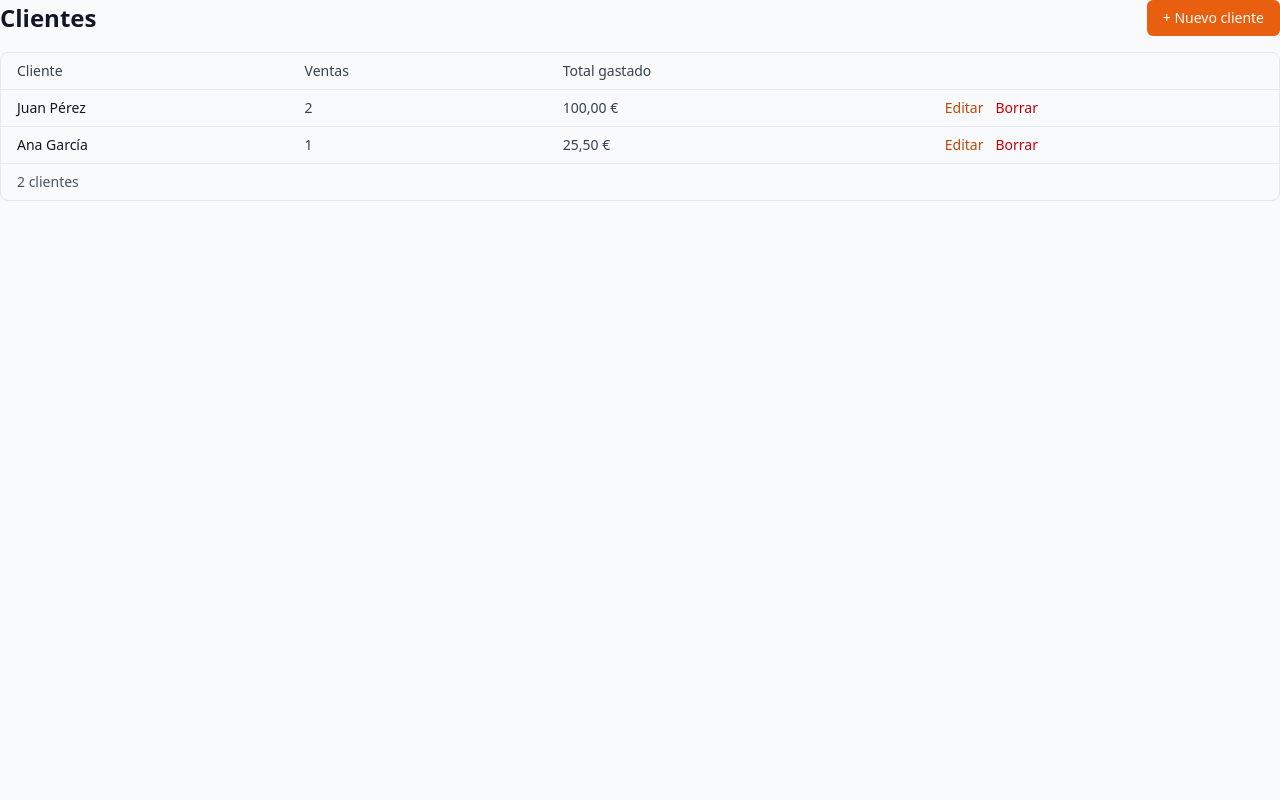
it: CustomersListPage › un cliente sin ventas se borra con el DELETE simple
Click the button with aria-label "Borrar Juan Pérez" at (1017, 108), box x1=996 y1=98 x2=1038 y2=118
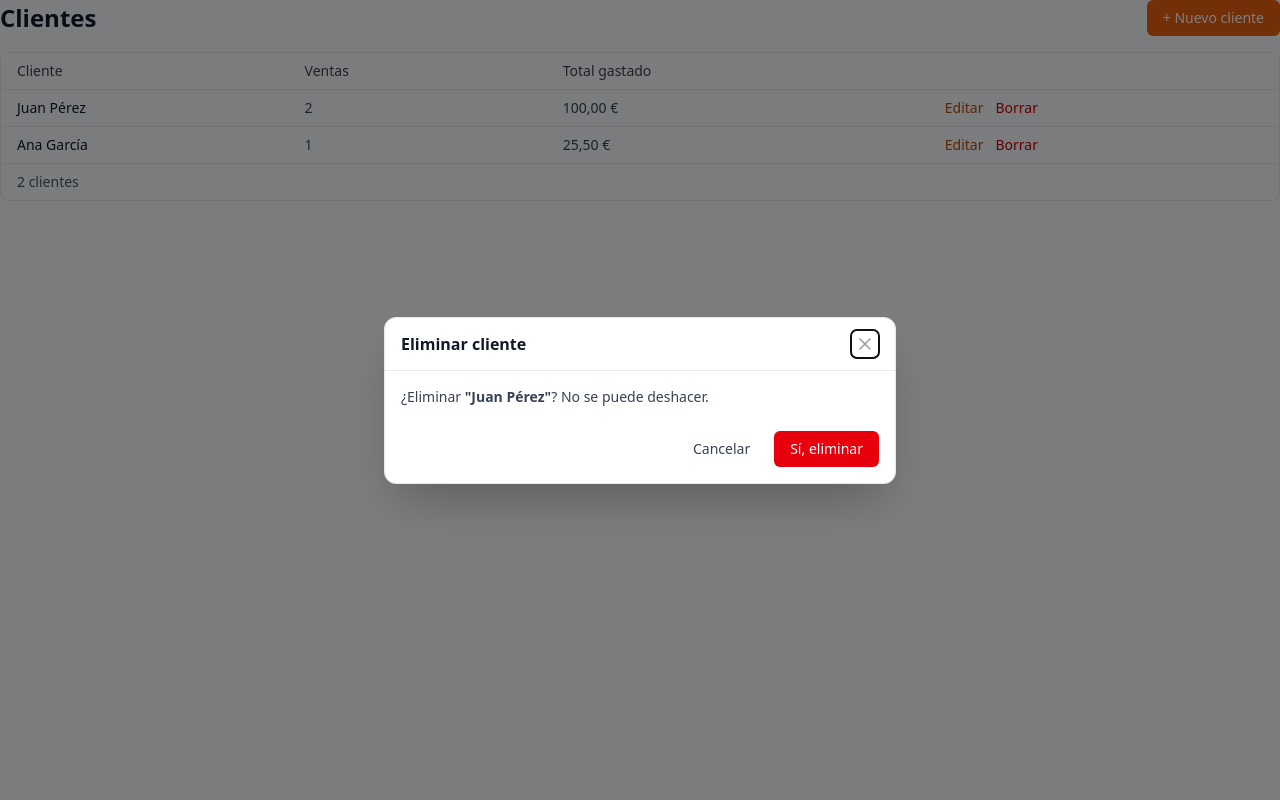
Click the button "Sí, eliminar" at (827, 448), box x1=774 y1=430 x2=879 y2=466
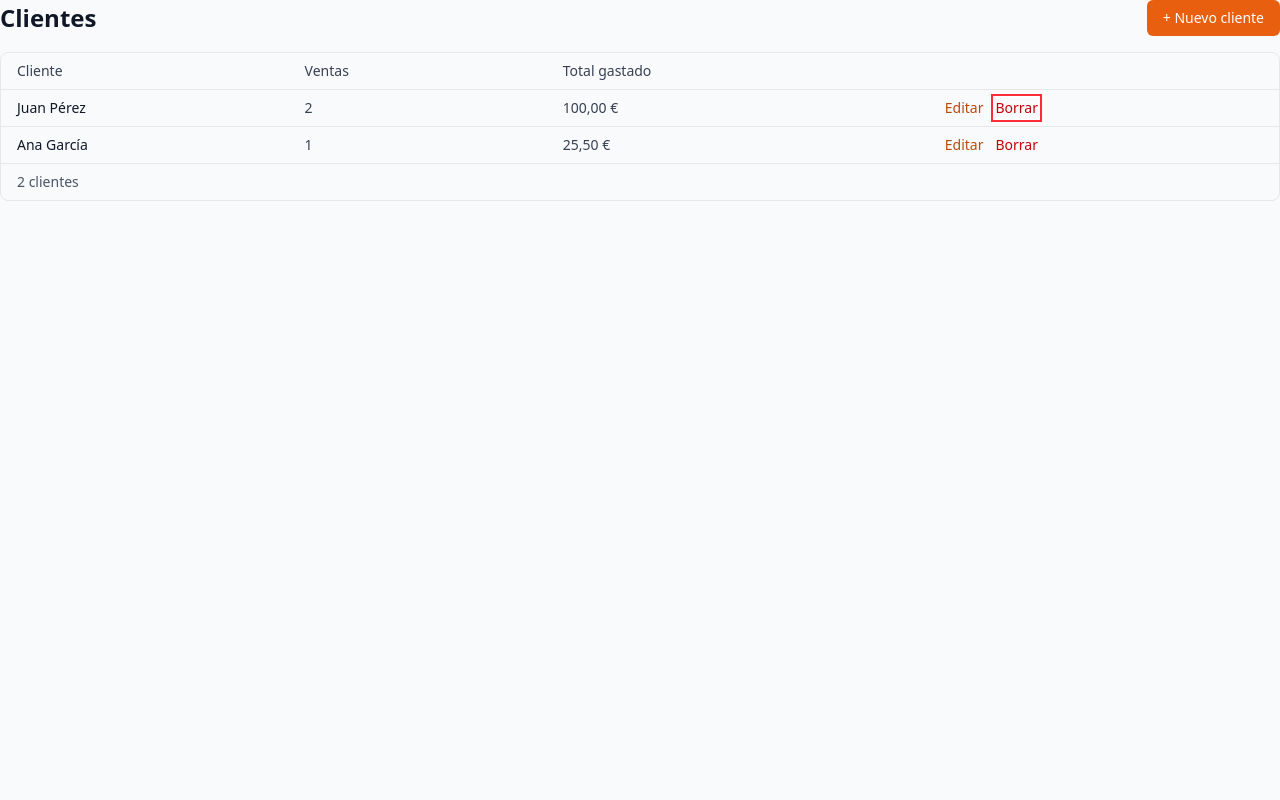
Expected: the dialog is gone
